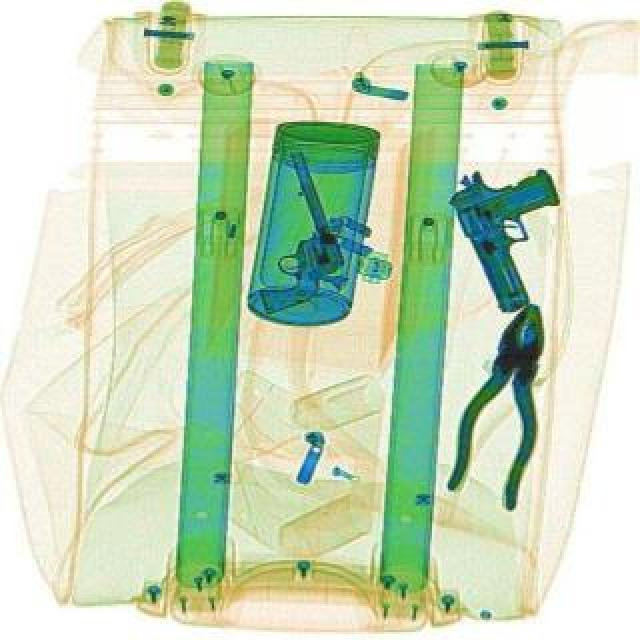gun: (434, 148, 598, 320), (216, 148, 354, 318)
wrench: (432, 296, 572, 516)
